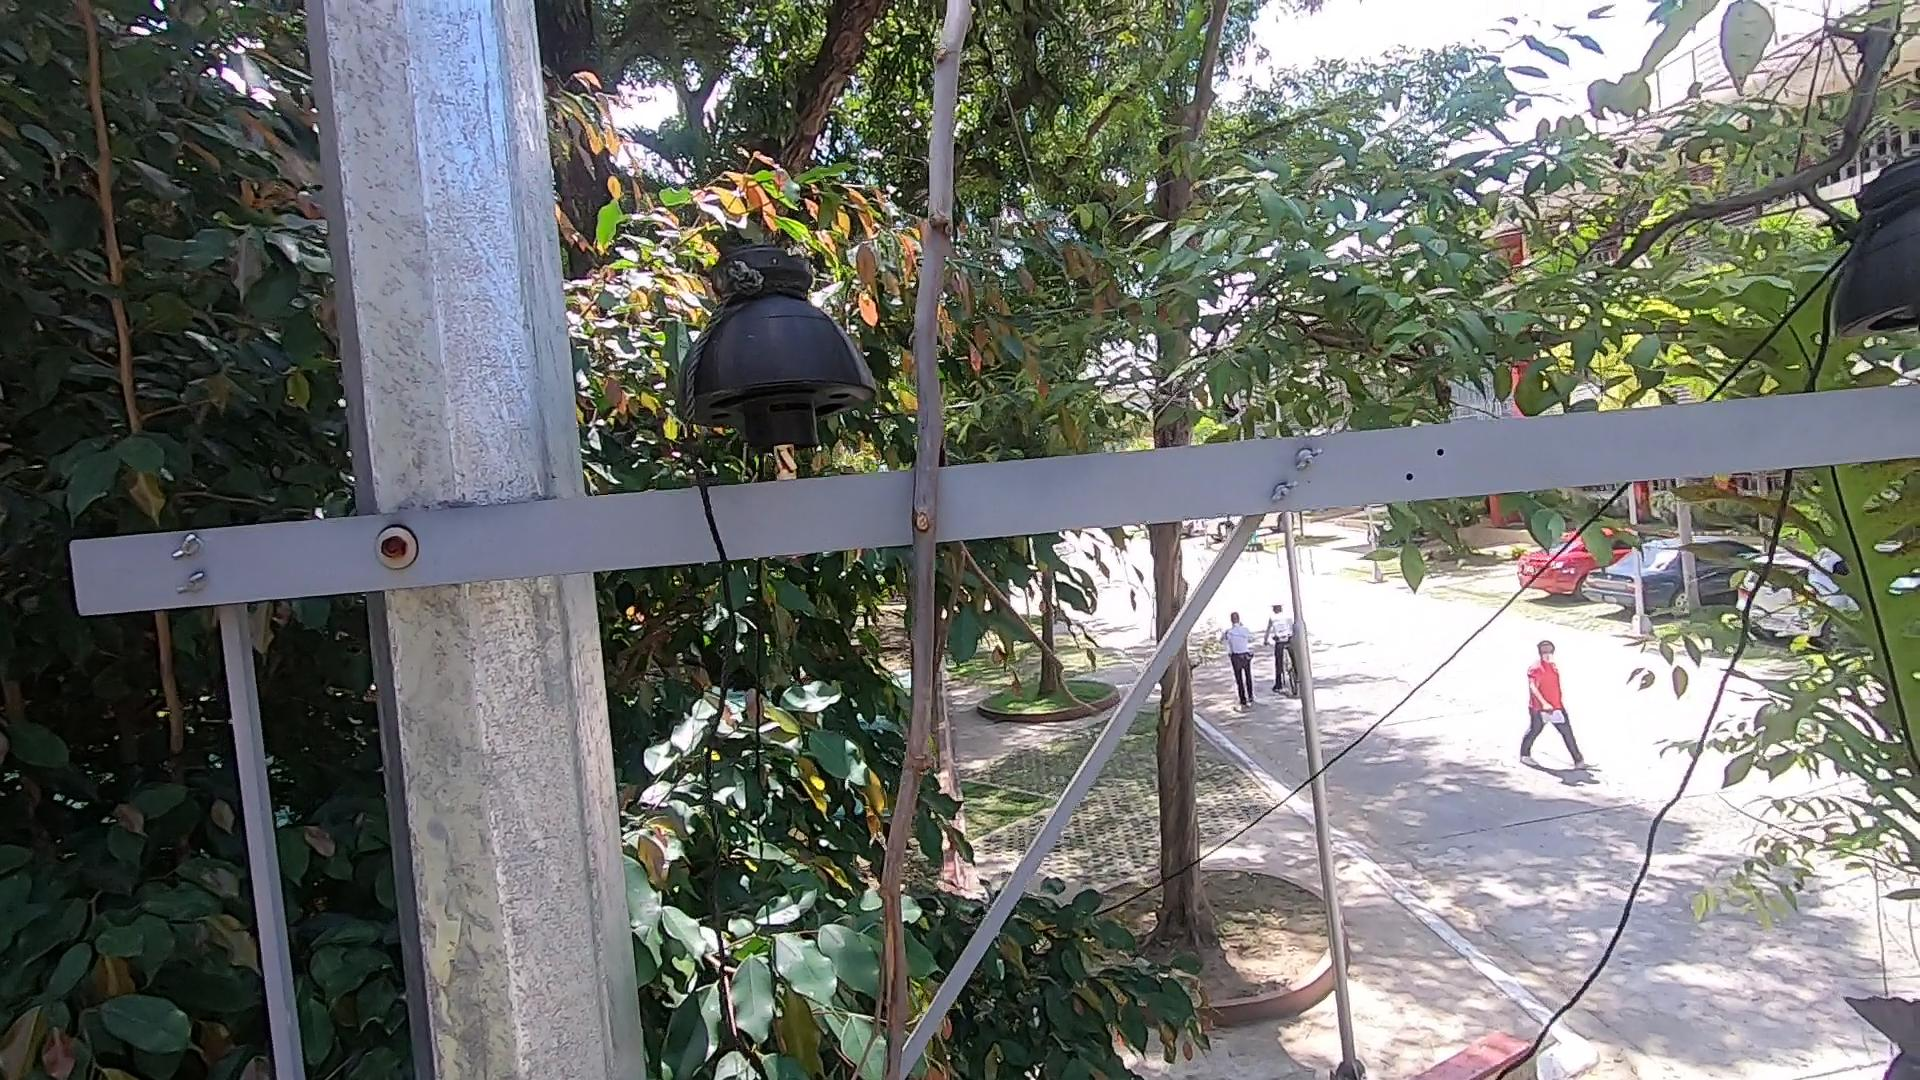tree branch: (806, 3, 1083, 1080)
